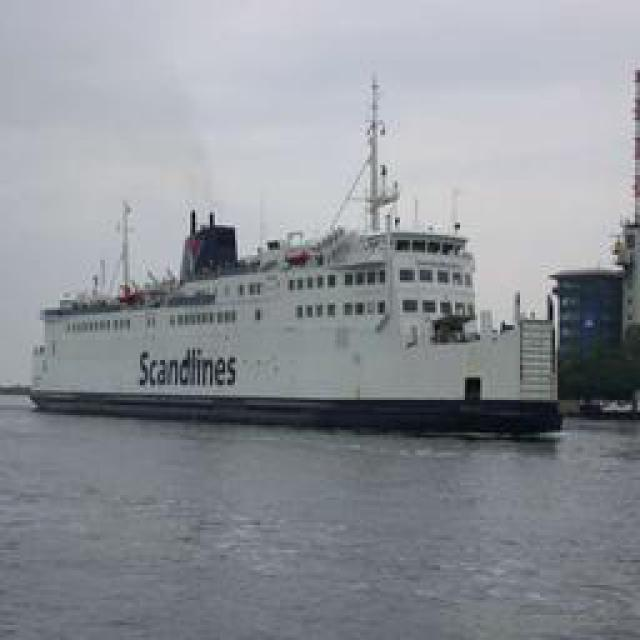Ship: (35, 49, 563, 422)
